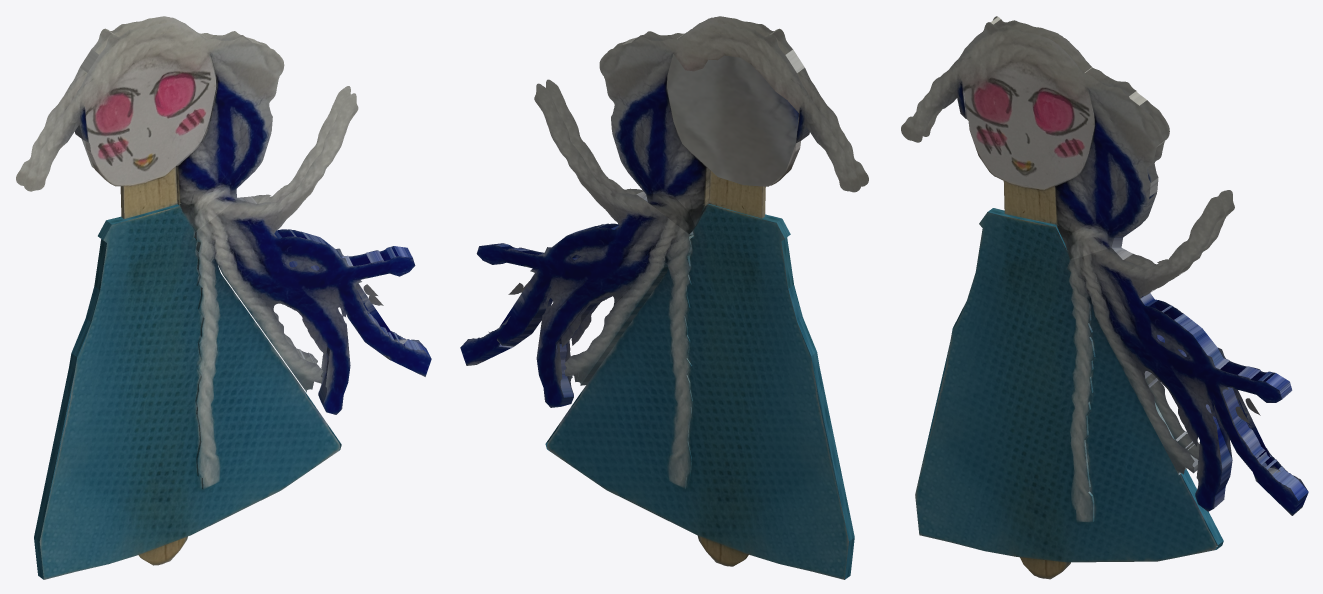
File: personaje4.fbx
3 renders of one model, left to right at view 1: azimuth 30°, elevation 25°; view 2: azimuth 150°, elevation 25°; view 3: azimuth 330°, elevation 25°, orthographic.
Parts seen in each view (by area): view 1: Plane.004; view 2: Plane.004; view 3: Plane.004.
Part boxes in pixels (x1,y1,x2,y2): Plane.004: (16, 16, 431, 579); Plane.004: (460, 16, 868, 579); Plane.004: (901, 16, 1308, 579).
Bounding box in the file's own units: 241 × 310 × 13.84.
Materials: 1 (1 with a texture image).
